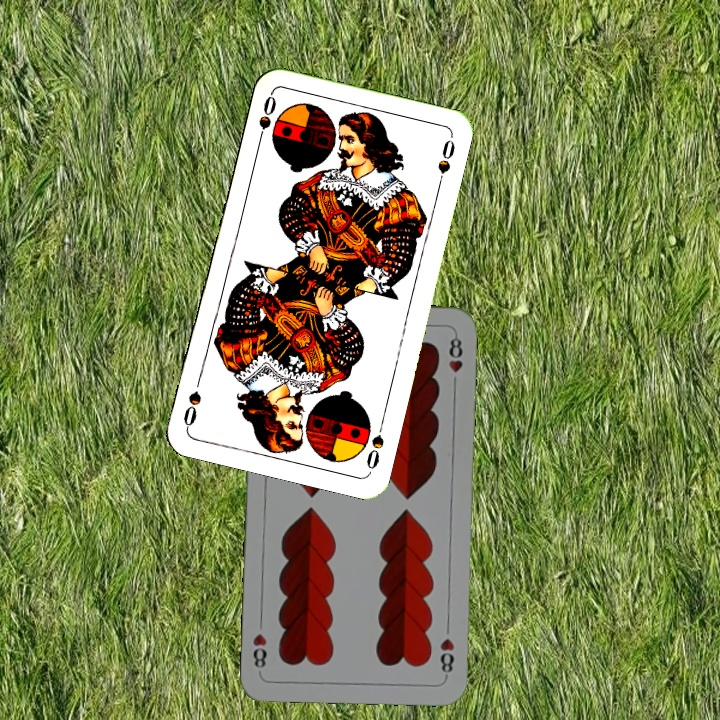H8: (436, 634, 457, 680)
SO: (253, 90, 279, 149), (362, 416, 387, 474)
